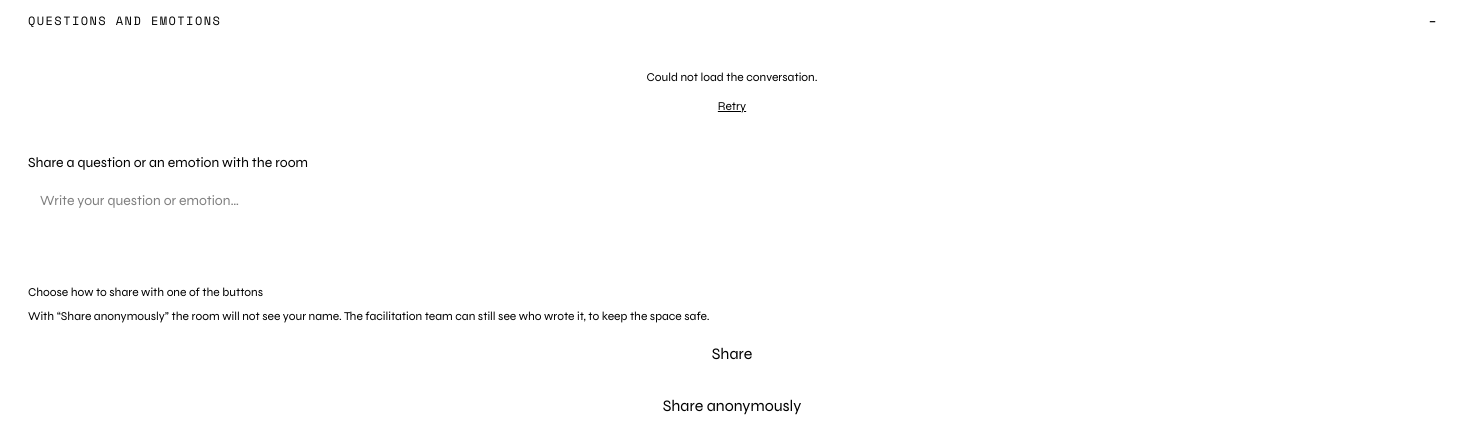
initial load and pagination › recovers from malformed 2xx feed JSON through the explicit retry
Expected: the text "Could not load the conversation." is shown, [646,70,818,84]
Click the button "Retry" at (732, 106), box [718,98,746,114]
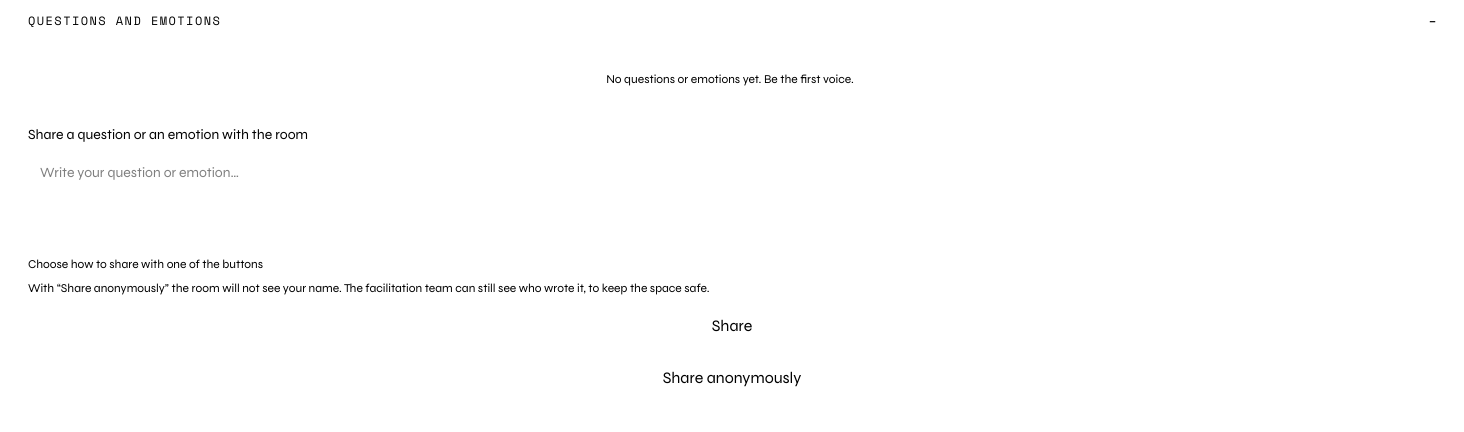
Expected: the text "No questions or emotions yet. Be the first voice." is shown, [606,72,854,86]
